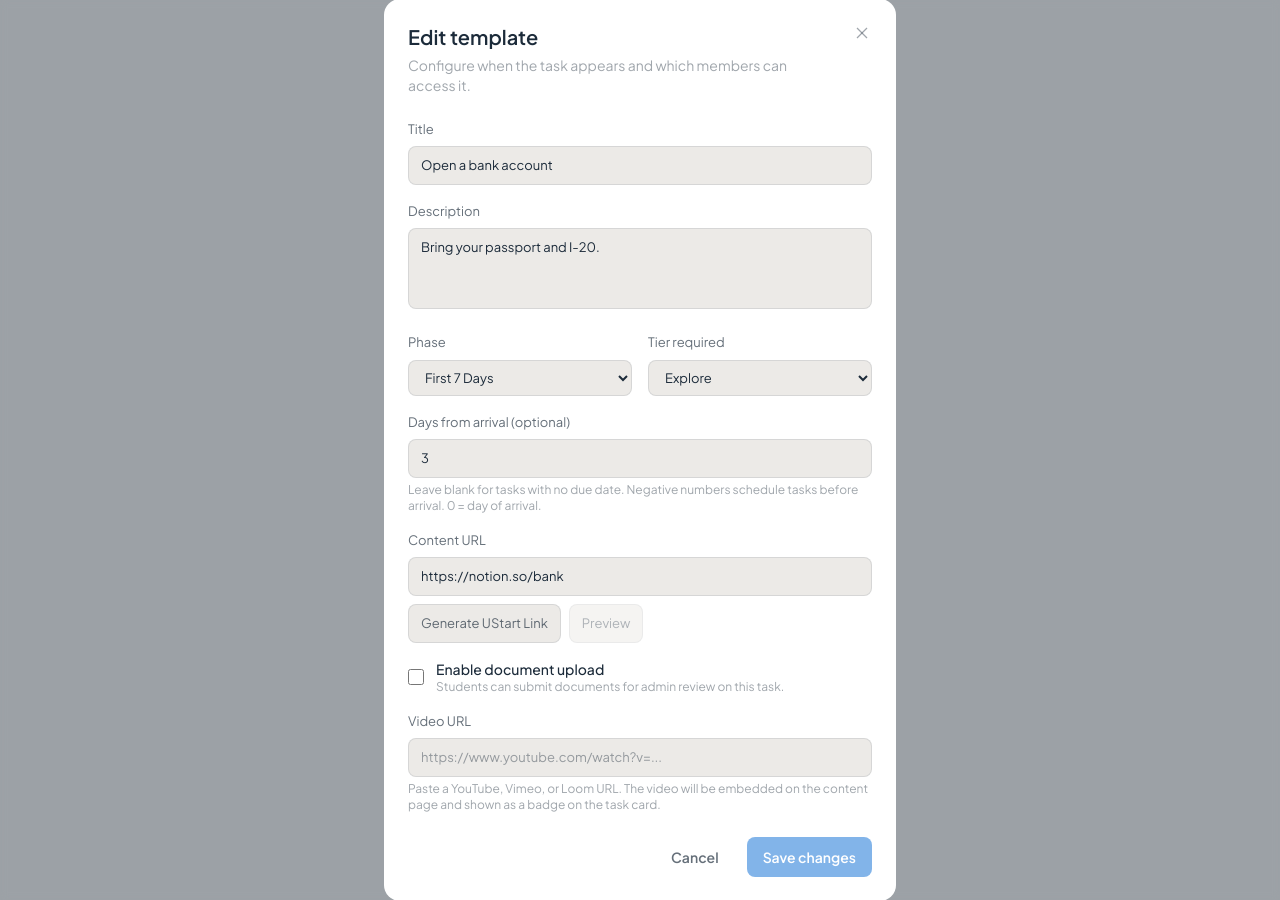
Test: PlanTemplateModal › Save changes button is enabled after changing a field in edit mode
Replace the text in the field labelled "Title" with "Modified title" at (640, 165), box [408,146,872,185]
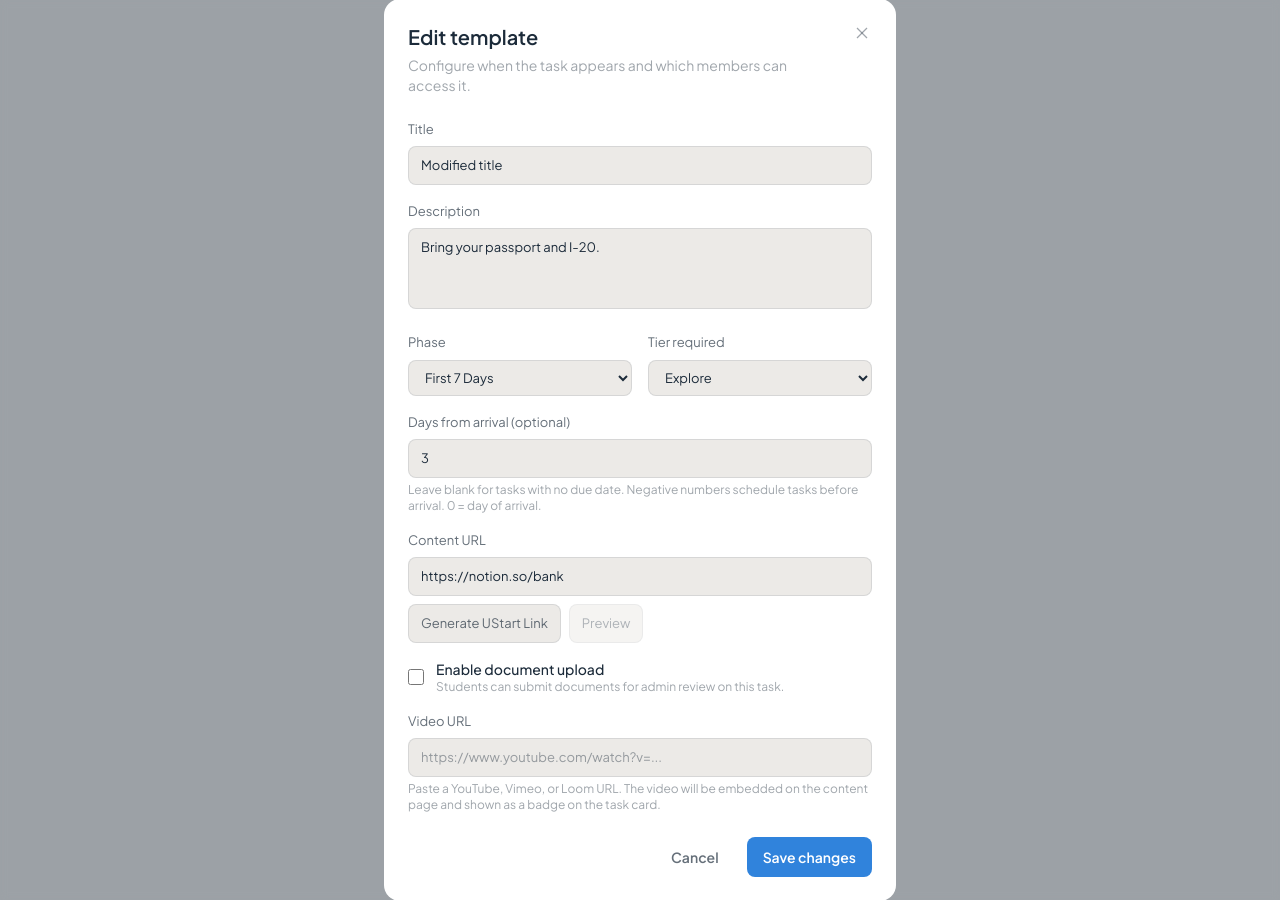
Expected: the button "Save changes" is enabled, [747,837,872,877]
